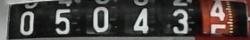digits: (132, 7, 150, 35), (170, 8, 188, 35), (92, 6, 109, 31), (54, 8, 70, 34), (19, 10, 34, 35), (209, 0, 225, 22)
